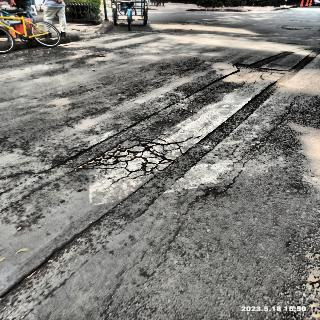alligator-crack: (76, 134, 202, 182), (239, 66, 286, 84)
